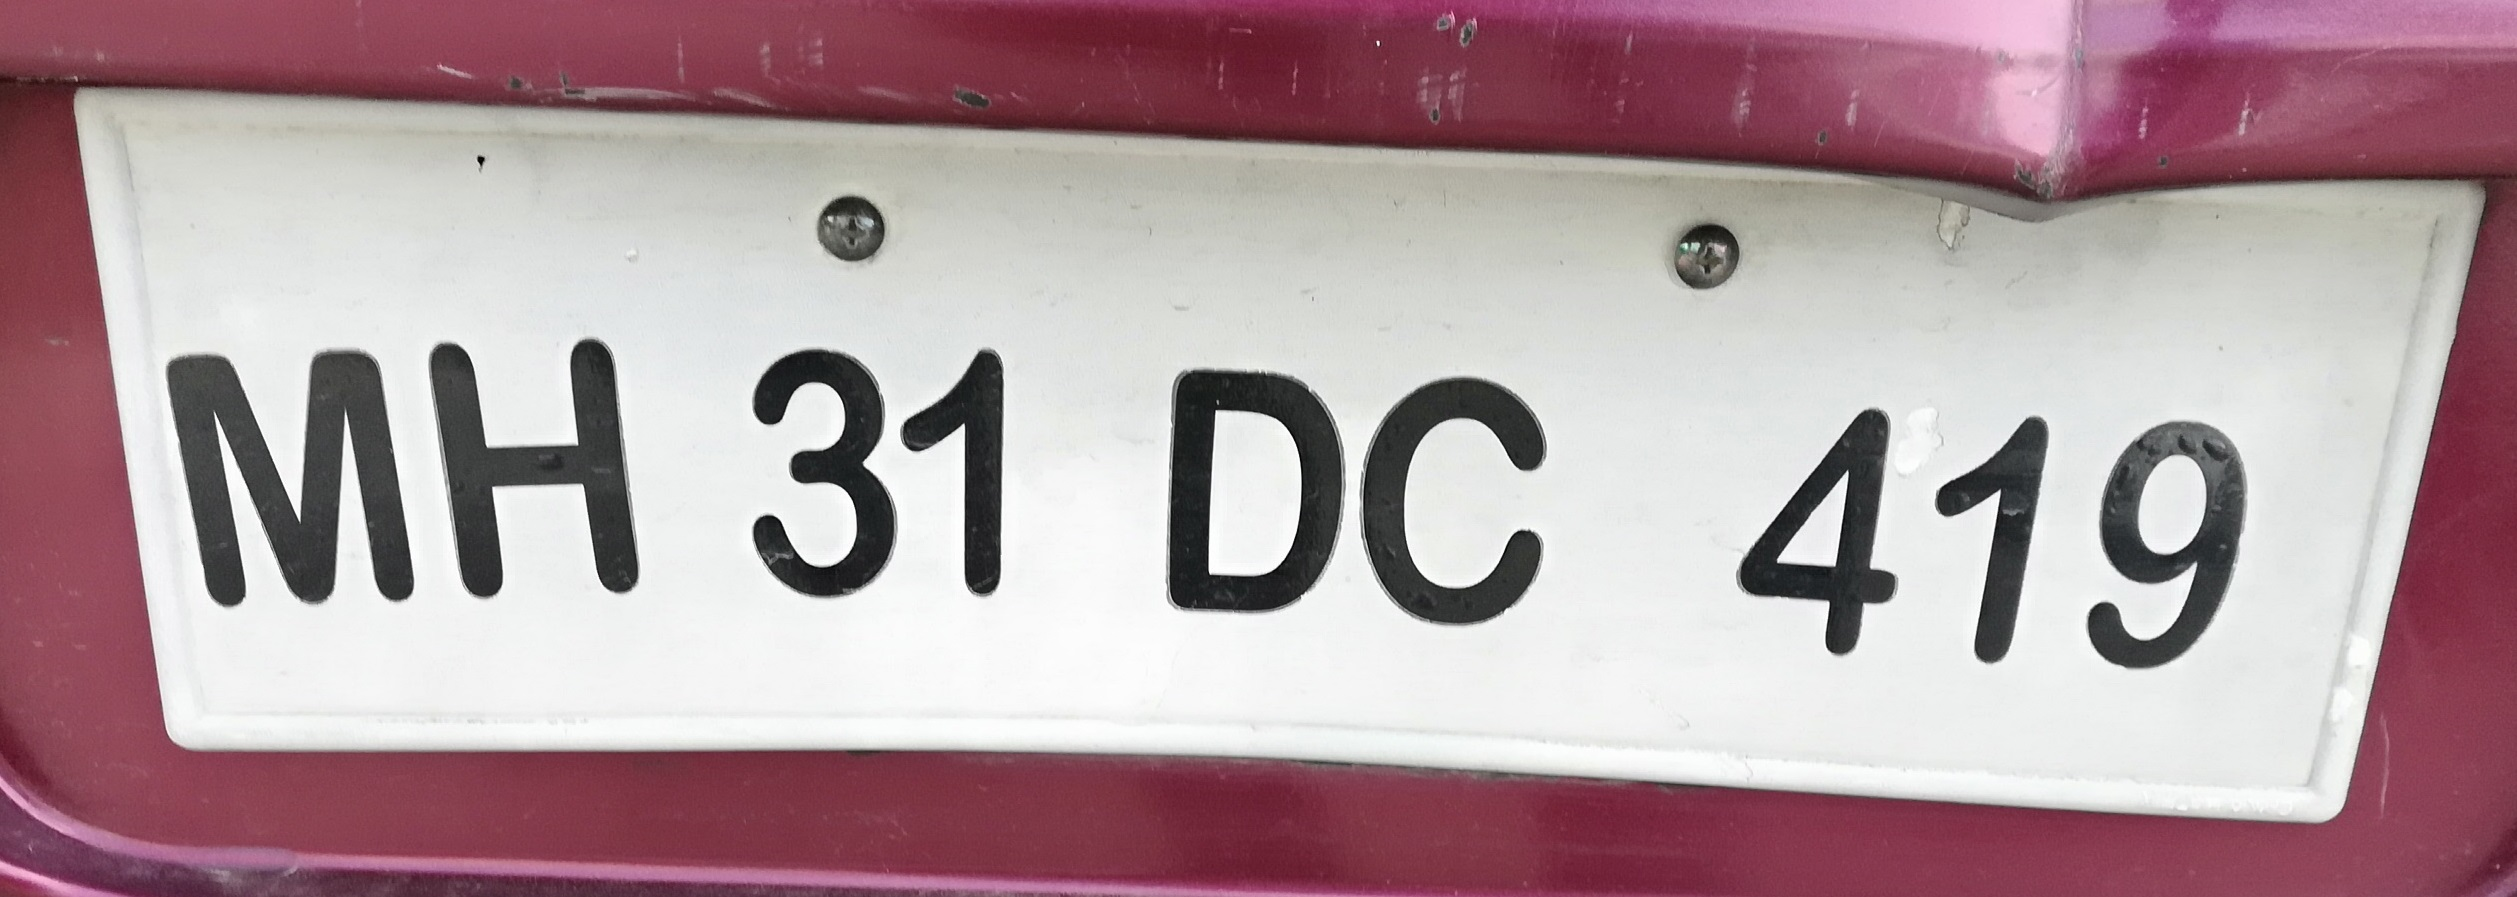numberplate: (65, 84, 2483, 837)
